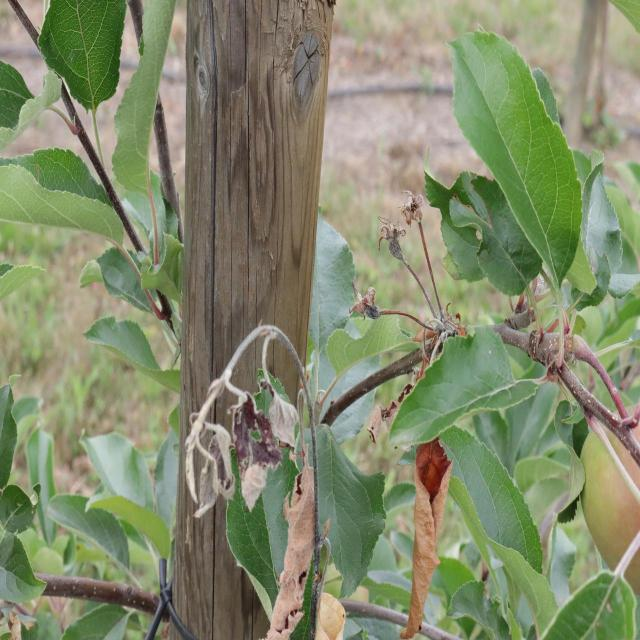-FireBlight-: (192, 350, 326, 640), (413, 434, 448, 640)
